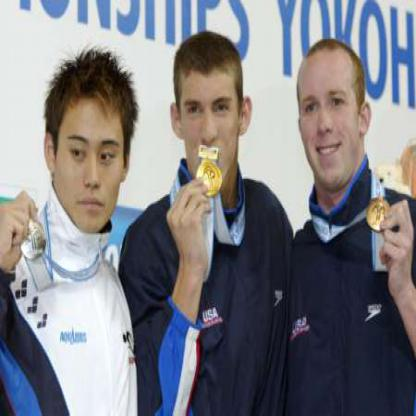face: (56, 73, 127, 235), (300, 42, 363, 193), (183, 38, 242, 192)
